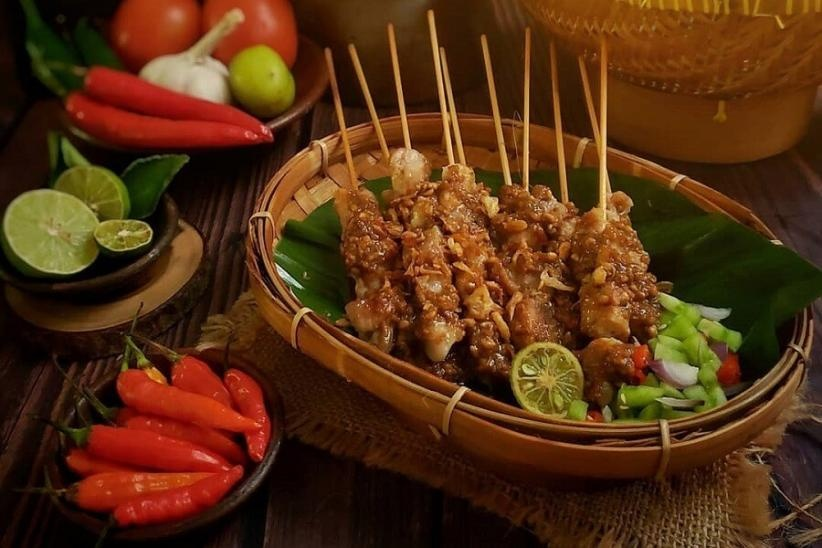sate: (331, 141, 661, 400)
